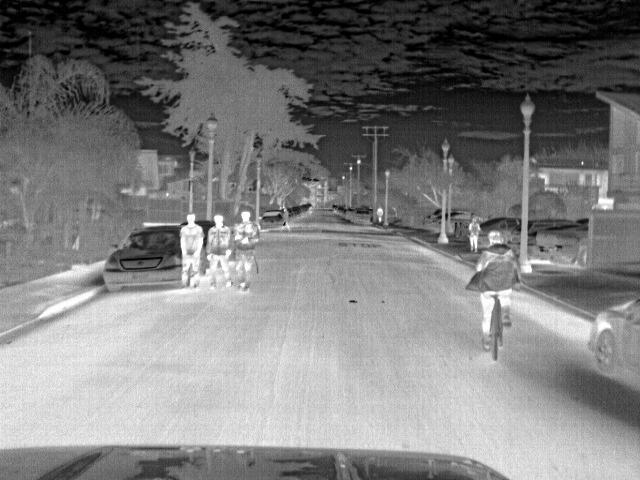car: (100, 224, 182, 292), (585, 294, 639, 391), (534, 218, 590, 268), (479, 218, 521, 253), (258, 209, 288, 231), (351, 207, 375, 227)
person: (474, 230, 518, 348), (200, 212, 231, 288), (232, 208, 260, 291), (178, 212, 204, 291), (465, 216, 482, 258), (373, 204, 385, 224)
